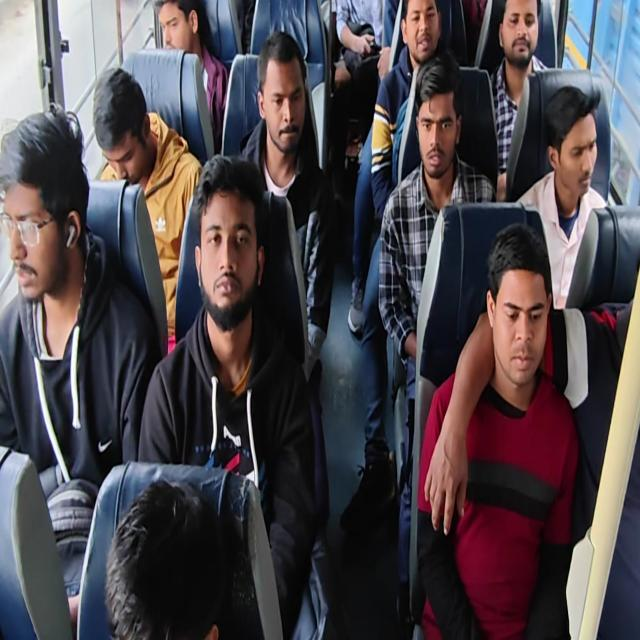person: (108, 492, 223, 640), (0, 113, 78, 298), (193, 162, 270, 316), (478, 243, 544, 394), (90, 68, 162, 182), (546, 92, 601, 208), (259, 49, 309, 150), (418, 73, 454, 172), (500, 0, 546, 69), (148, 0, 200, 59), (399, 0, 437, 56)
